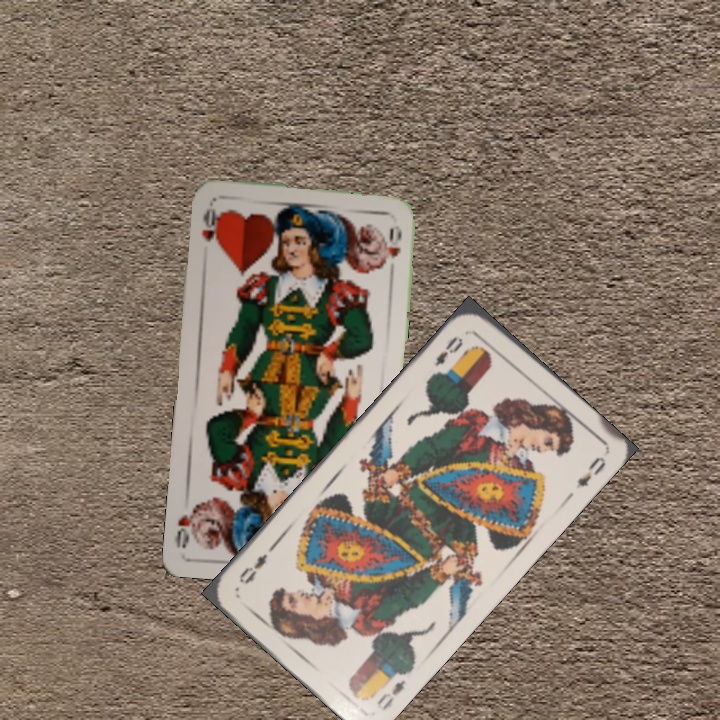EO: (373, 675, 409, 713), (430, 332, 466, 369)
HO: (198, 204, 223, 249)
